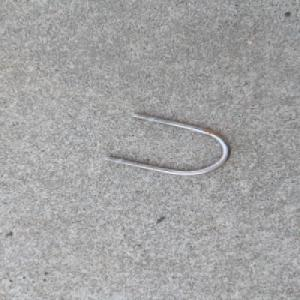ClampPart: (98, 110, 231, 176)
